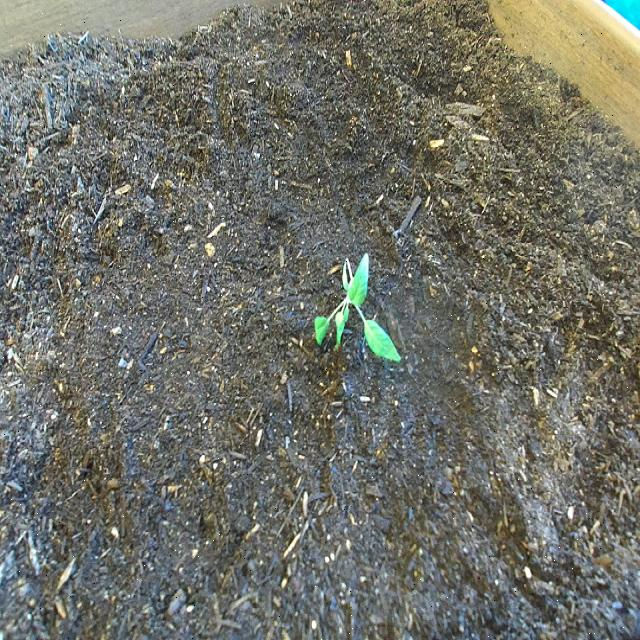Unhealthy: (309, 244, 406, 382)
